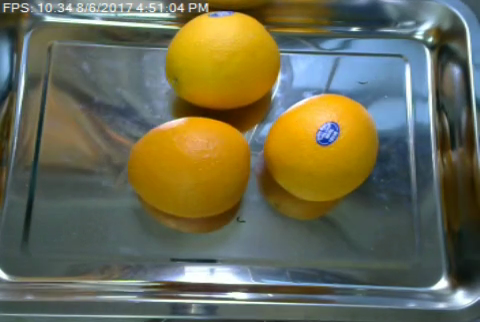Orange: (126, 116, 249, 218), (262, 94, 377, 201), (164, 11, 280, 107)
